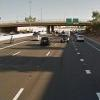Bridge: (5, 13, 88, 36)
